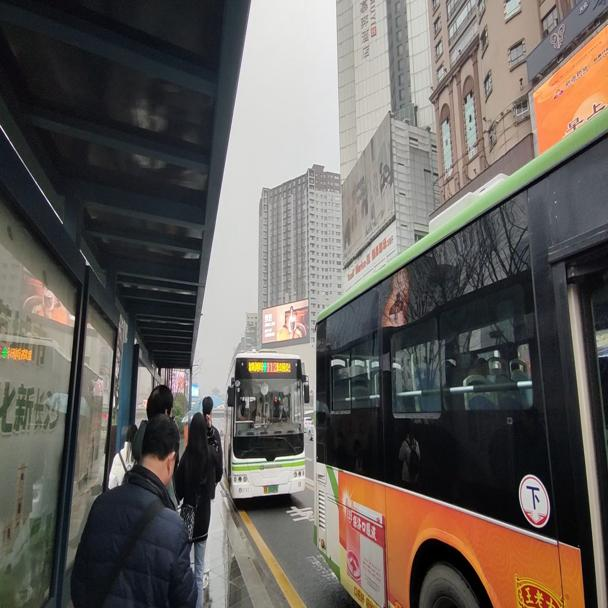bus: (313, 105, 607, 606), (221, 352, 309, 504)
screen: (266, 361, 277, 371)
